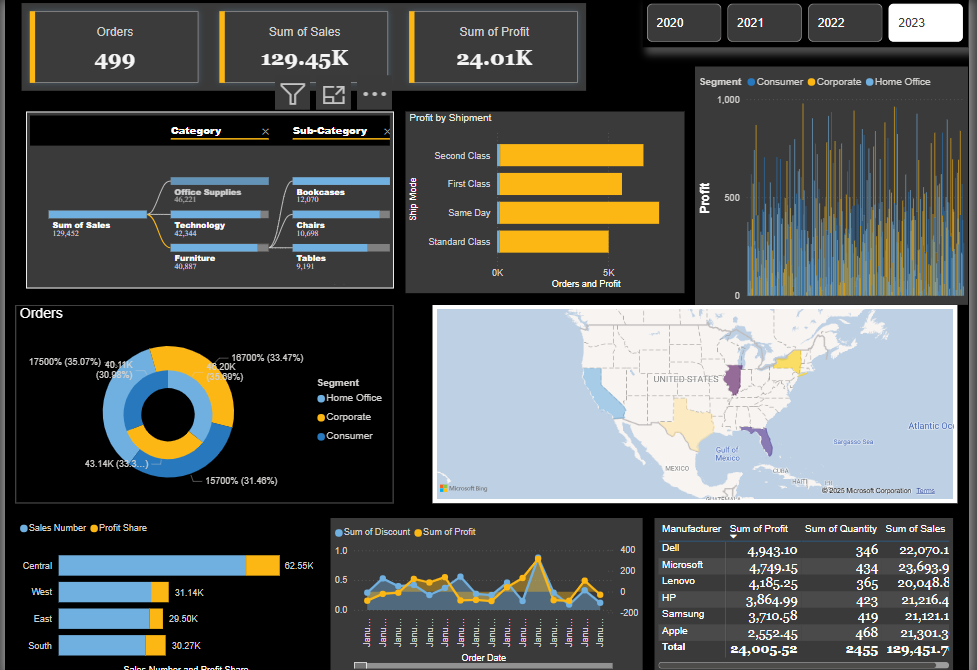

The page's visual inventory and layout, read from the dashboard file:
{"tool":"powerbi","page":{"name":"Page 1","canvas":[1280,902],"ordinal":0},"visuals":[{"type":"filledMap","title":"Profit region","fields":{"Category":["DM_city.State"],"Y":["Avg(FactSuperstore.Sales)"],"Series":["FactSuperstore.Profit"]},"box":[567.9,406.5,697.4,263],"z":0},{"type":"barChart","fields":{"Category":["DM_city.Region"],"Y":["Sum(FactSuperstore.Sales)","Sum(FactSuperstore.Profit)"]},"box":[14.1,683.5,400.4,219],"z":1000},{"type":"lineChart","fields":{"Category":["FactSuperstore.Order Date.Variation.Date Hierarchy.Year"],"Y":["Sum(FactSuperstore.Discount)"],"Y2":["Sum(FactSuperstore.Profit)"]},"box":[432.4,689.5,414.5,205.2],"z":2000},{"type":"barChart","title":"Profit by Shipment ","fields":{"Category":["DM_Shipmode.Ship Mode"],"Y":["Measure.Orders","Sum(FactSuperstore.Profit)"]},"box":[532,149.5,370.6,241.1],"z":3000},{"type":"pivotTable","fields":{"Values":["Sum(FactSuperstore.Profit)","Sum(FactSuperstore.Quantity)","Sum(FactSuperstore.Sales)"],"Rows":["DM_Manufactured.Manufacturer"]},"box":[862.8,689.5,396.5,205.2],"z":4000},{"type":"donutChart","title":"Orders","fields":{"Category":["DM_Segment.Segment"],"Y":["Measure.Orders"]},"box":[13.9,406.5,502.2,263],"z":5000},{"type":"donutChart","fields":{"Category":["DM_Segment.Segment"],"Y":["Sum(FactSuperstore.Sales)"]},"box":[85.7,468.3,261,167.4],"z":6000},{"type":"advancedSlicerVisual","fields":{"Values":["Calendar.Date.Variation.Date Hierarchy.Year"]},"box":[846.9,0,432.4,63.8],"z":7000},{"type":"cardVisual","fields":{"Data":["Measure.Orders","Sum(FactSuperstore.Sales)","Sum(FactSuperstore.Profit)"]},"box":[0,0,795.1,127.5],"z":8000},{"type":"decompositionTreeVisual","fields":{"ExplainBy":["DM_Category.Category","DM_Category.Sub-Category"],"Analyze":["Sum(FactSuperstore.Sales)"]},"box":[27.9,149.5,488.2,235.1],"z":9000},{"type":"ribbonChart","fields":{"Series":["DM_Segment.Segment"],"Category":["FactSuperstore.Order Date.Variation.Date Hierarchy.Year"],"Y":["Sum(FactSuperstore.Sales)"]},"box":[916.6,89.7,362.7,316.8],"z":9001}]}

Visuals, with their boxes in screenshot pixels (x1, y1, x2, y2), scaled from the page's 1280x902 canvas onto the 977x670 screenshot:
"Profit region" filledMap: 433,302,966,497
barChart - DM_city.Region x Sum(FactSuperstore.Sales): 11,508,316,669
lineChart - FactSuperstore.Order Date.Variation.Date Hierarchy.Year x Sum(FactSuperstore.Discount): 330,512,646,665
"Profit by Shipment " barChart: 406,111,689,290
pivotTable - Sum(FactSuperstore.Profit) x Sum(FactSuperstore.Quantity): 659,512,961,665
"Orders" donutChart: 11,302,394,497
donutChart - DM_Segment.Segment x Sum(FactSuperstore.Sales): 65,348,265,472
advancedSlicerVisual - Calendar.Date.Variation.Date Hierarchy.Year: 646,0,976,47
cardVisual - Measure.Orders x Sum(FactSuperstore.Sales): 0,0,607,95
decompositionTreeVisual - DM_Category.Category x DM_Category.Sub-Category: 21,111,394,286
ribbonChart - DM_Segment.Segment x FactSuperstore.Order Date.Variation.Date Hierarchy.Year: 700,67,976,302
